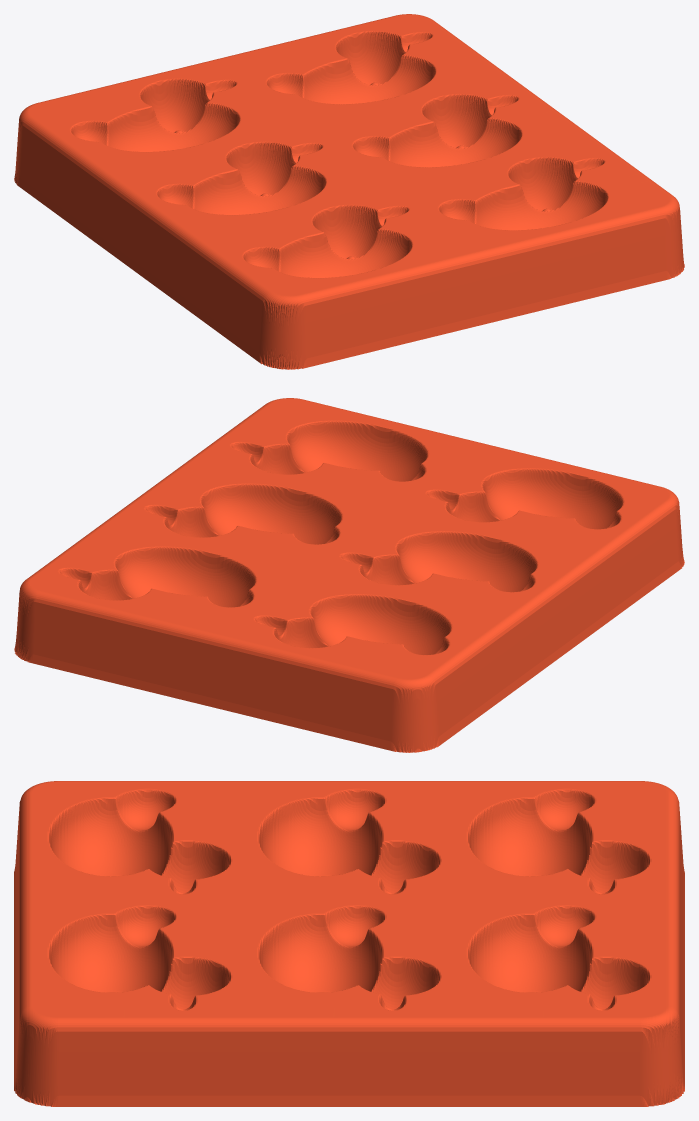
Rendered from mold.glb.
3 renders of one model, top to bottom at view 1: azimuth 30°, elevation 25°; view 2: azimuth 150°, elevation 25°; view 3: azimuth 270°, elevation 25°, orthographic. The views are drawn at different scales.
Parts seen in each view (by area): view 1: geometry_0; view 2: geometry_0; view 3: geometry_0.
Part boxes in pixels (x1=…): geometry_0: x1=14, y1=14, x2=684, y2=369; geometry_0: x1=14, y1=398, x2=684, y2=752; geometry_0: x1=14, y1=781, x2=684, y2=1106.
Size of the model in its own units: 0.121 by 0.0185 by 0.1371.
